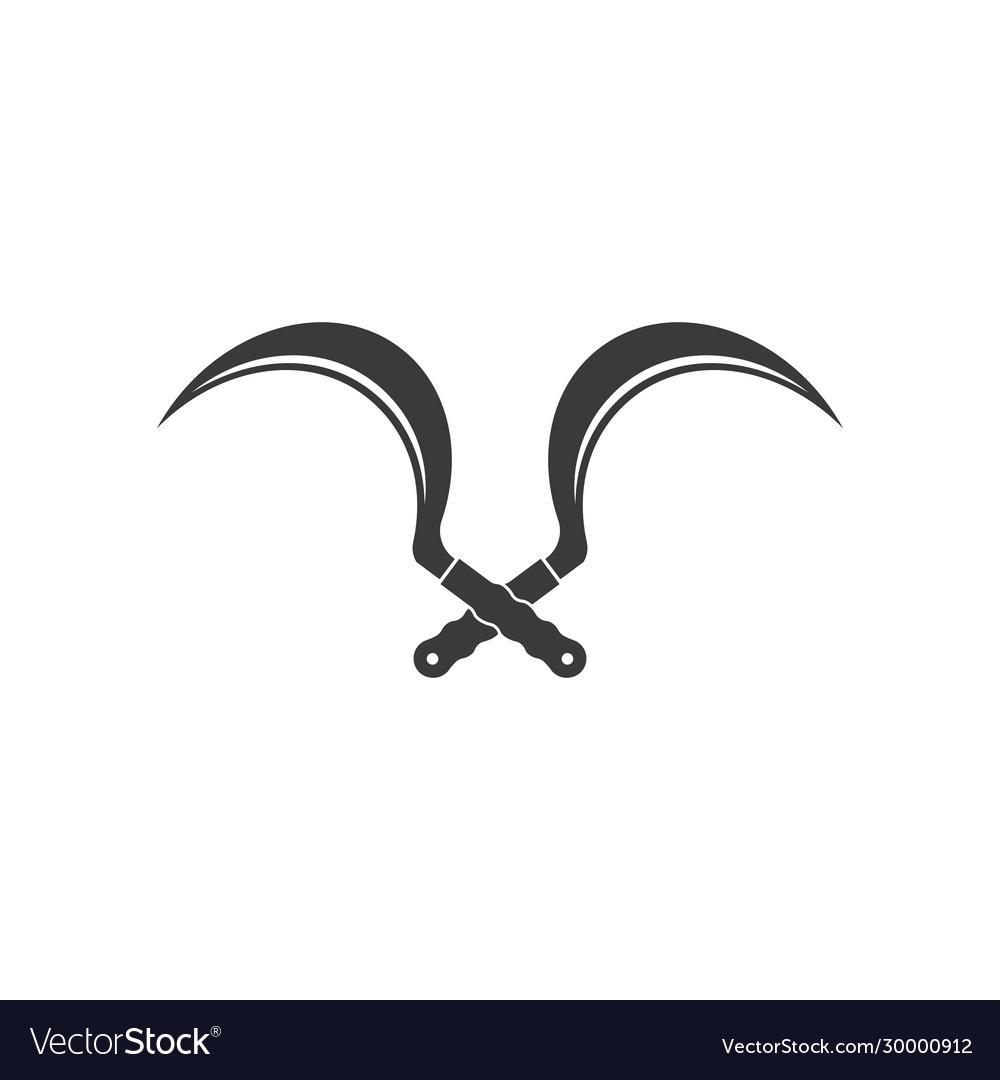foice: (395, 318, 855, 682), (158, 315, 600, 678)
